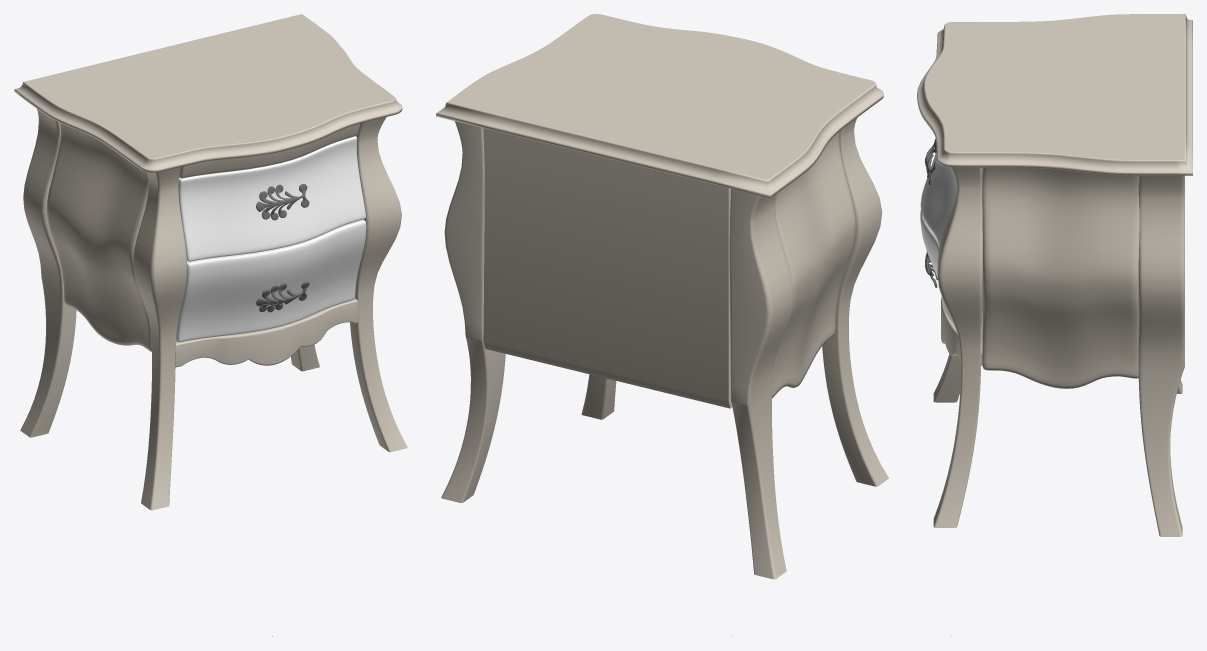
3 renders of one model, left to right at view 1: azimuth 30°, elevation 25°; view 2: azimuth 150°, elevation 25°; view 3: azimuth 270°, elevation 25°, orthographic. The views are drawn at different scales.
Visible parts, largest first — view 1: cover, leg01, left, Top box, Bottom box, leg03, decor, Group001, Hundle-01, Hundle-03; view 2: back, cover, leg03, left, leg01; view 3: cover, left, leg03, leg01, Top box, decor, Bottom box.
Part boxes in pixels (bbox=[...]): cover: bbox=[14, 14, 402, 172]; leg01: bbox=[133, 117, 407, 510]; left: bbox=[46, 123, 151, 351]; Top box: bbox=[178, 136, 365, 261]; Bottom box: bbox=[176, 219, 366, 342]; leg03: bbox=[20, 109, 319, 437]; decor: bbox=[175, 298, 358, 367]; Group001: bbox=[179, 123, 359, 178]; Hundle-01: bbox=[256, 184, 309, 220]; Hundle-03: bbox=[256, 281, 309, 312]; back: bbox=[483, 128, 732, 408]; cover: bbox=[436, 14, 883, 197]; leg03: bbox=[441, 121, 793, 579]; left: bbox=[772, 132, 855, 398]; leg01: bbox=[581, 118, 888, 486]; cover: bbox=[917, 14, 1192, 175]; left: bbox=[982, 167, 1139, 388]; leg03: bbox=[1138, 175, 1184, 536]; leg01: bbox=[933, 167, 982, 527]; Top box: bbox=[920, 152, 956, 245]; decor: bbox=[941, 296, 960, 365]; Bottom box: bbox=[920, 210, 954, 325].
Bounding box in the file's own units: 544 × 910 × 414.
